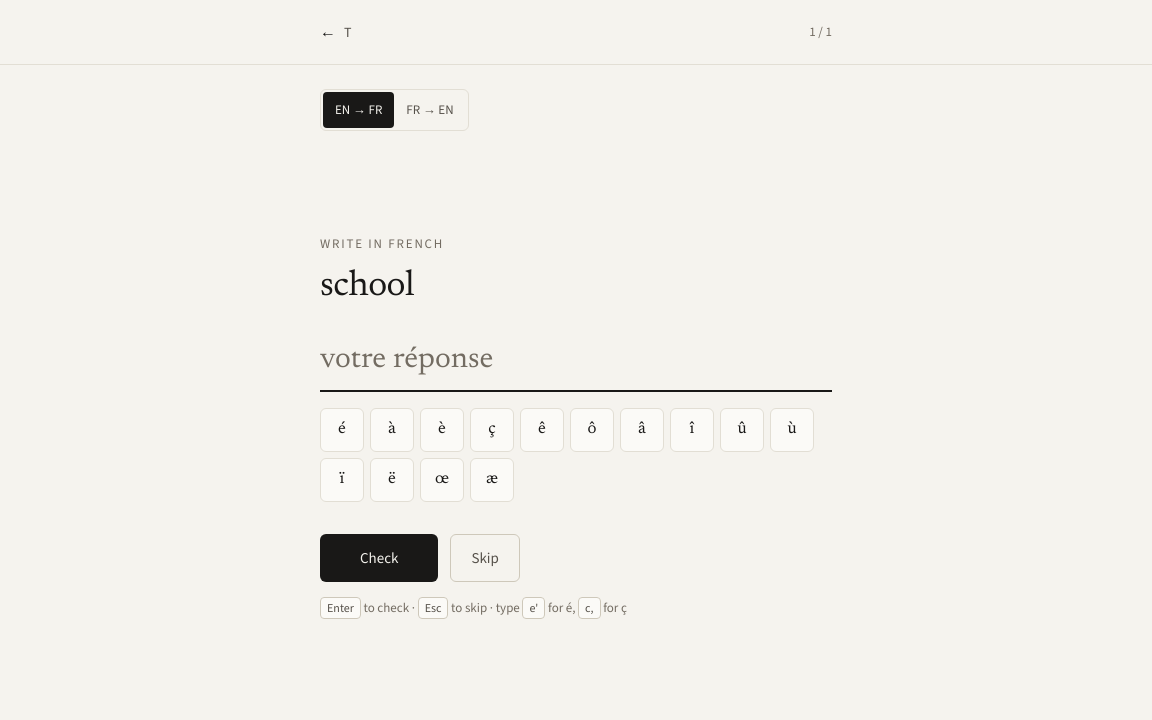
Test: direction toggle › switching to FR → EN flips the prompt and the expected answer
This screenshot has width=1152, height=720.
Check: the field named "answer in french" is shown, box [320,342,832,392]
Step 1. Click the radio button labelled "FR → EN" → coordinates (430, 110), box [394,92,466,128]
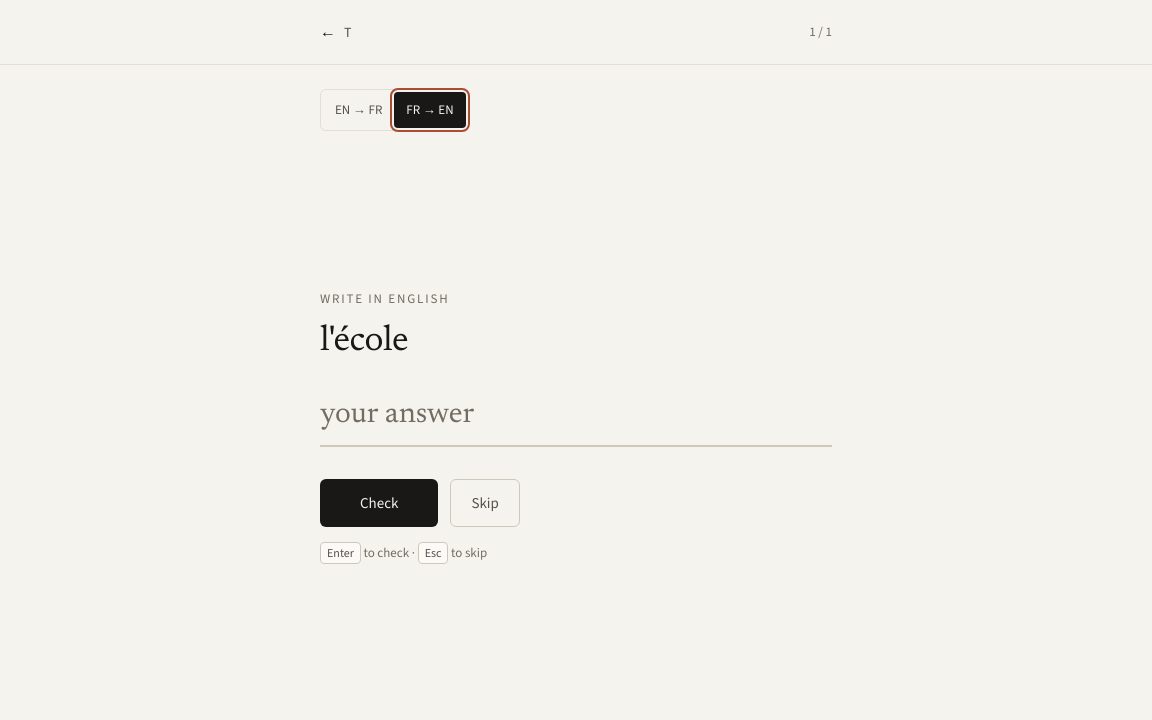
Check: the text "Write in English" is shown, box [320,290,450,306]
Check: the heading reads "l'école", box [320,324,408,360]
Check: the field named "answer in english" is shown
Step 2. Type "school" into the field named "answer in english" → coordinates (576, 422), box [320,397,832,447]
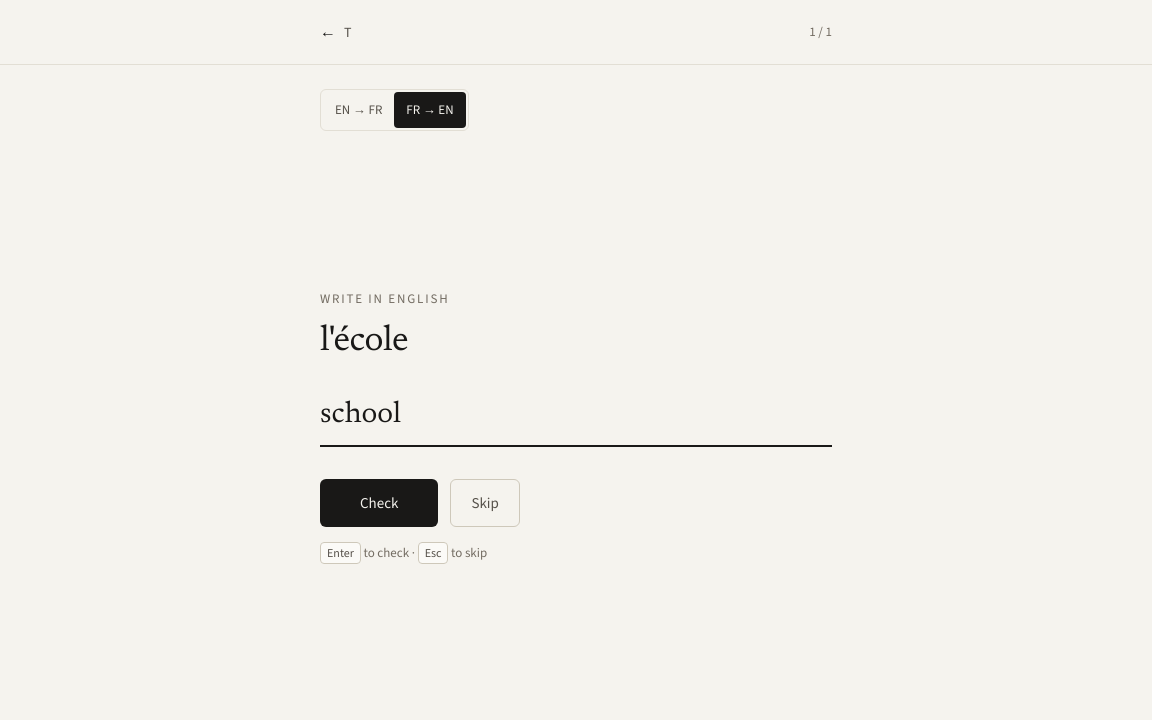
Step 3. Click the button "Check" → coordinates (379, 503), box [320,479,438,527]
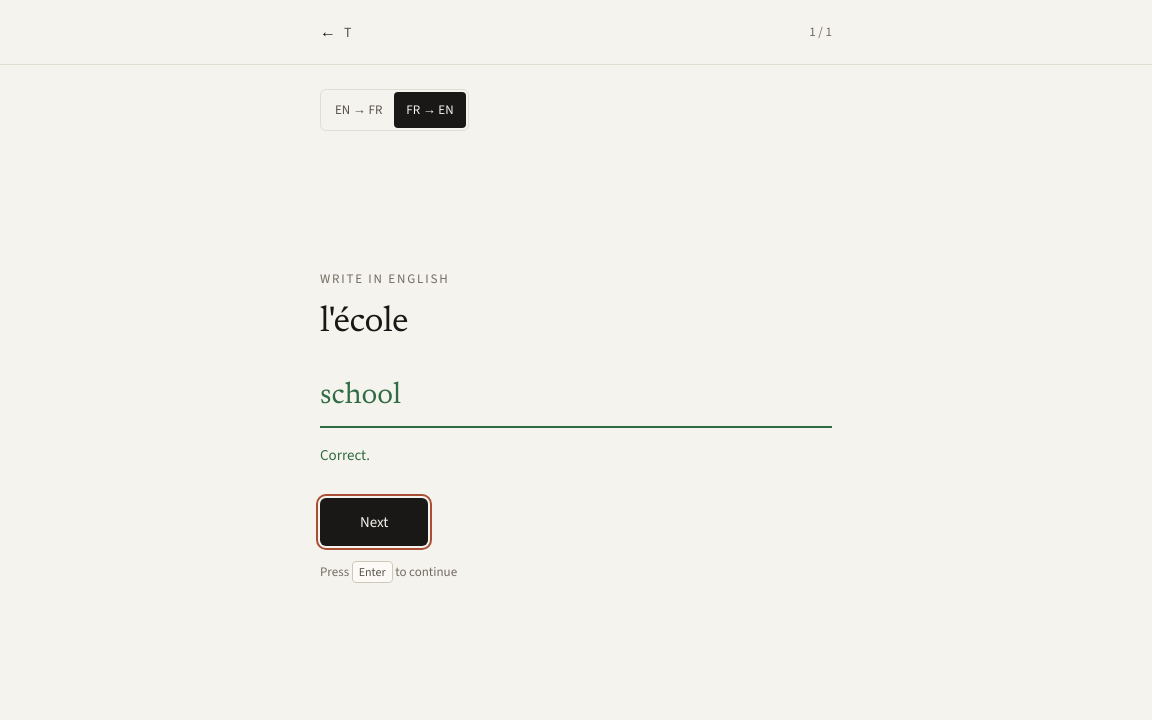
Check: the text "Correct." is shown, box [320,445,370,465]
